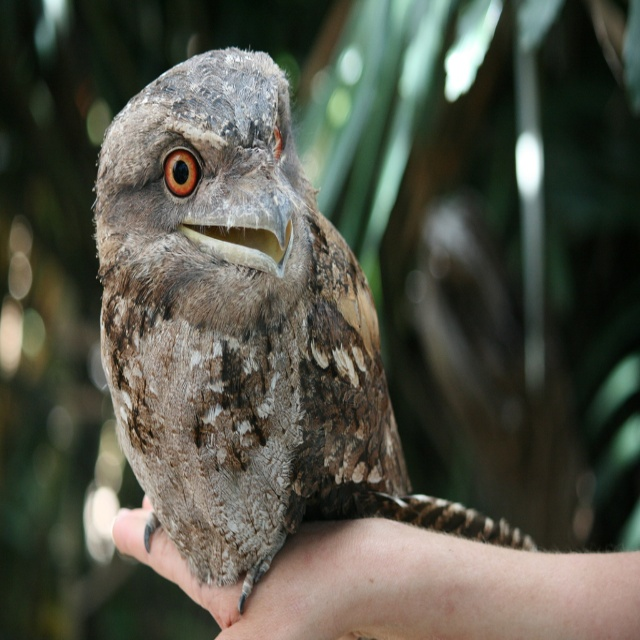Owl: (96, 43, 543, 619)
